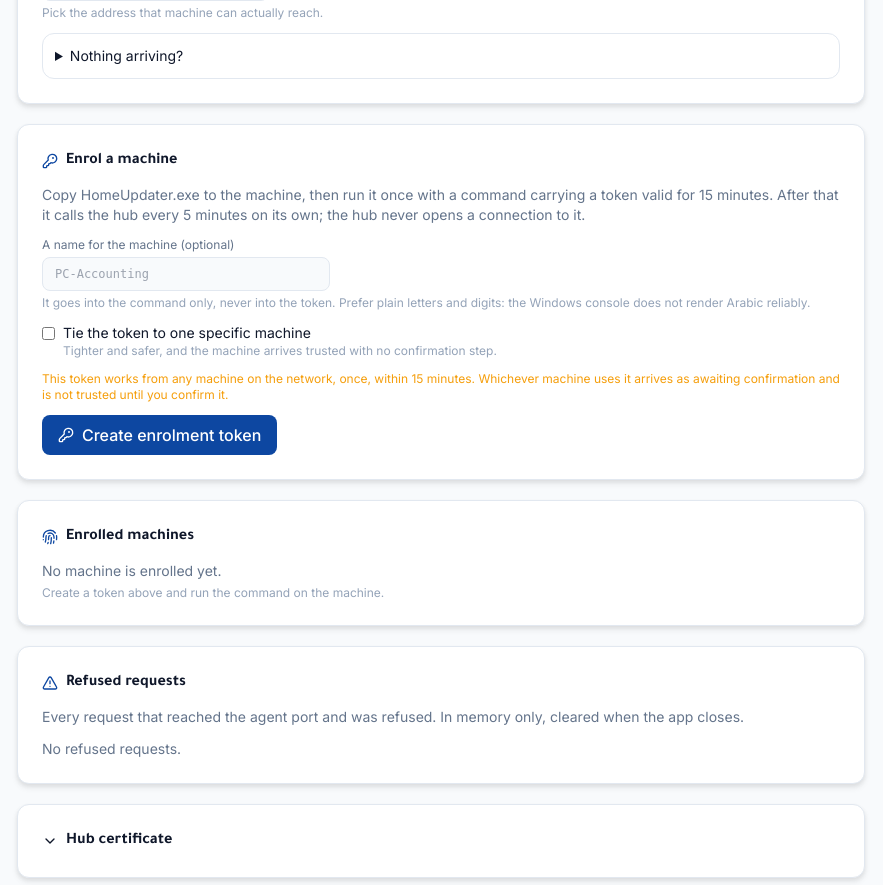
Scenario: minting a token › explains a refused mint in the operator's words
(page scrolled)
Click the button "Create enrolment token" at (160, 435), box [42,415,277,455]
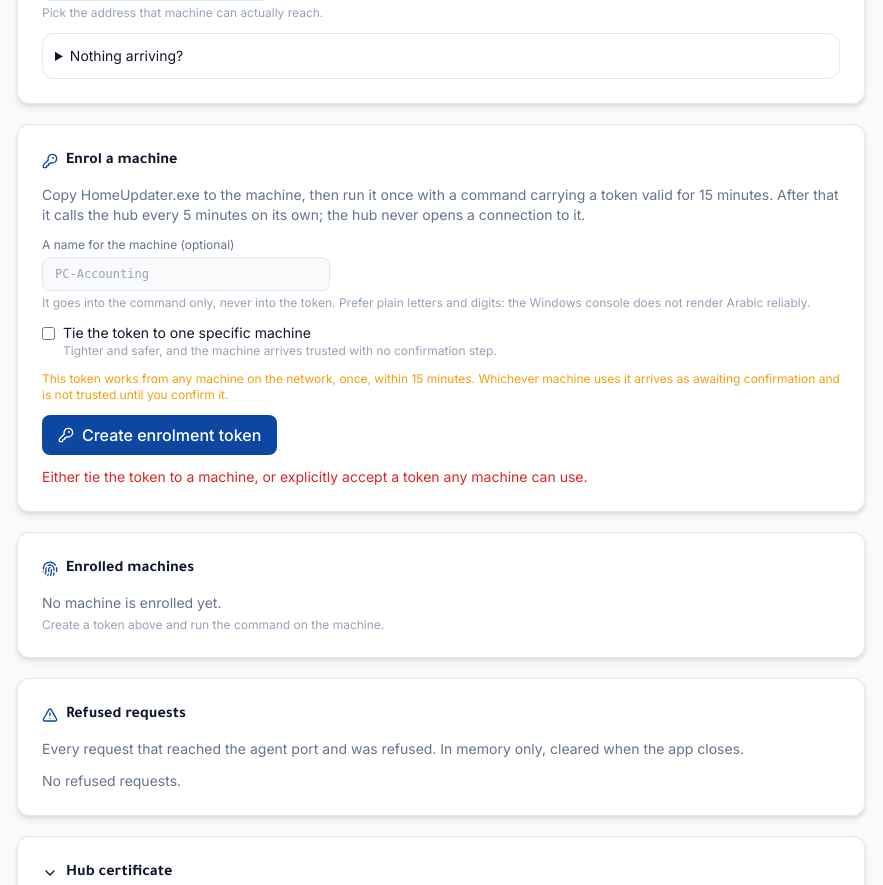
Expected: the text "explicitly accept a token any machine can use" is shown, [42,468,588,485]
